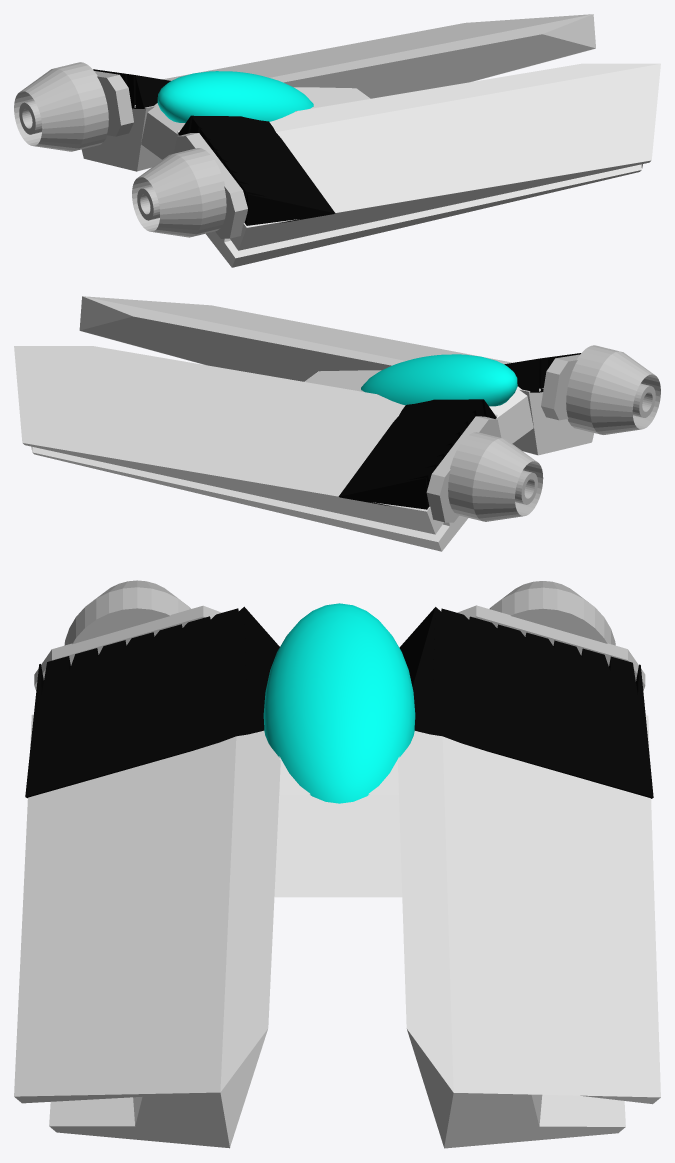
Rendered from new spaceship.fbx.
3 views of the same model, one above another, from view 1: azimuth 30°, elevation 25°; view 2: azimuth 150°, elevation 25°; view 3: azimuth 270°, elevation 25° (orthographic). The views are drawn at different scales.
Parts seen in each view (by area): view 1: Spaceship; view 2: Spaceship; view 3: Spaceship.
Boxes of the visible parts, x1,y1,x2,y2 form: Spaceship: (14, 14, 660, 267); Spaceship: (14, 296, 660, 551); Spaceship: (14, 580, 660, 1148).
Size of the model in its own units: 1989 by 442 by 1197.
